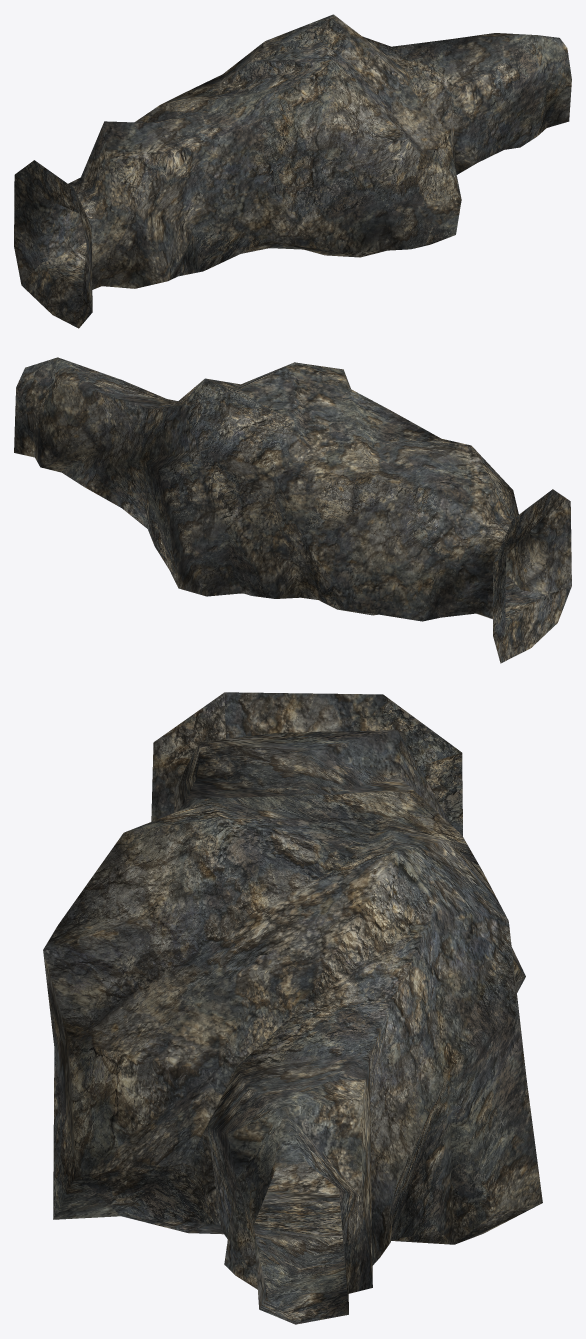
Rendered from Module22_LOD2.fbx.
The picture shows the model from 3 angles, top to bottom: view 1: azimuth 30°, elevation 25°; view 2: azimuth 150°, elevation 25°; view 3: azimuth 270°, elevation 25°; orthographic projection. The views are drawn at different scales.
Parts seen in each view (by area): view 1: cave_el22_1000_Group6361; view 2: cave_el22_1000_Group6361; view 3: cave_el22_1000_Group6361.
Boxes of the visible parts, x1=… form: cave_el22_1000_Group6361: x1=14, y1=14, x2=571, y2=328; cave_el22_1000_Group6361: x1=14, y1=357, x2=571, y2=663; cave_el22_1000_Group6361: x1=43, y1=692, x2=542, y2=1324.
Bounding box in the file's own units: 29.14 × 11.59 × 12.45.
